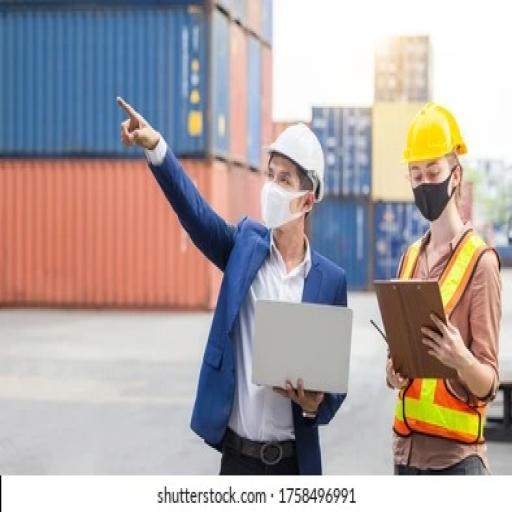mask: (250, 174, 292, 234), (406, 178, 452, 225)
